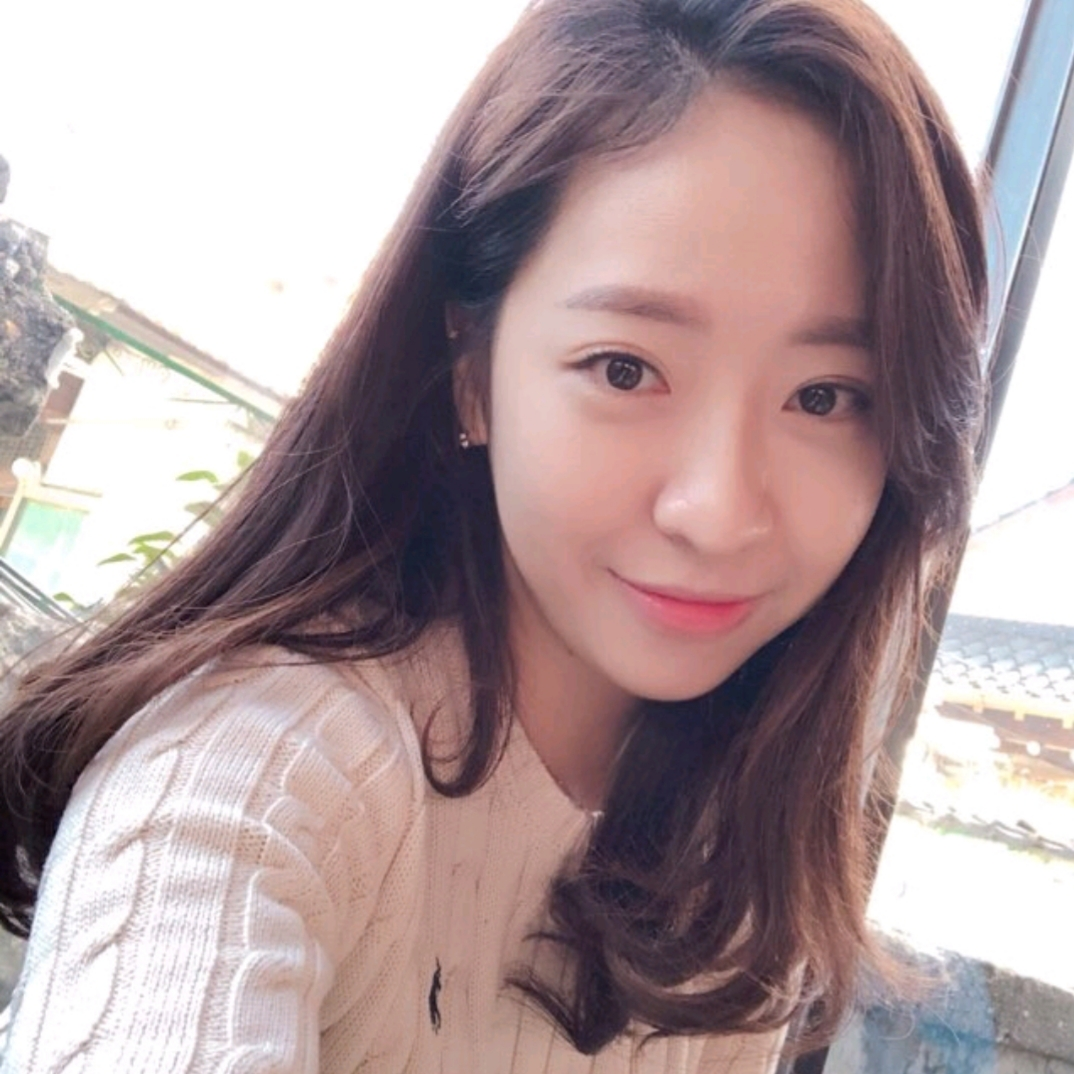GIRL: (457, 45, 923, 722)
